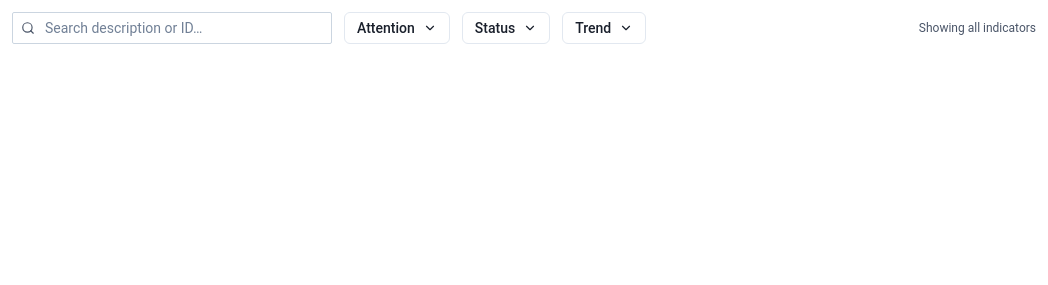
Test: attention menu — the tiles, as a dropdown › carries the counts into the accessible name, not just the visible text
The width and height of the screenshot is (1048, 285).
Click the button "Attention". click: [397, 28]
box: left=344, top=12, right=450, bottom=44
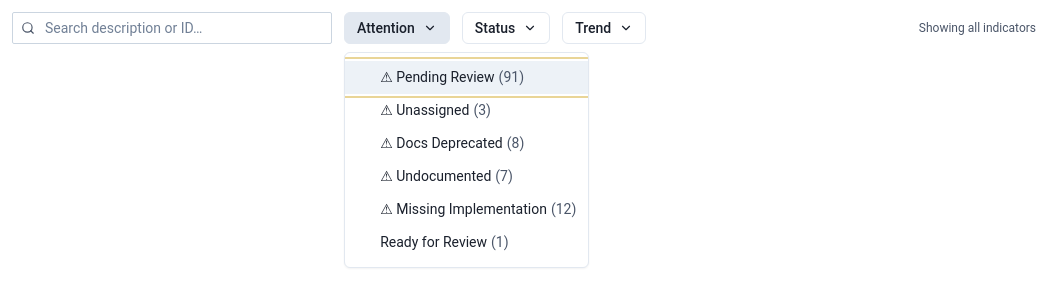
Check: the menu item "Ready for Review(1)" is shown, box left=345, top=226, right=588, bottom=259
